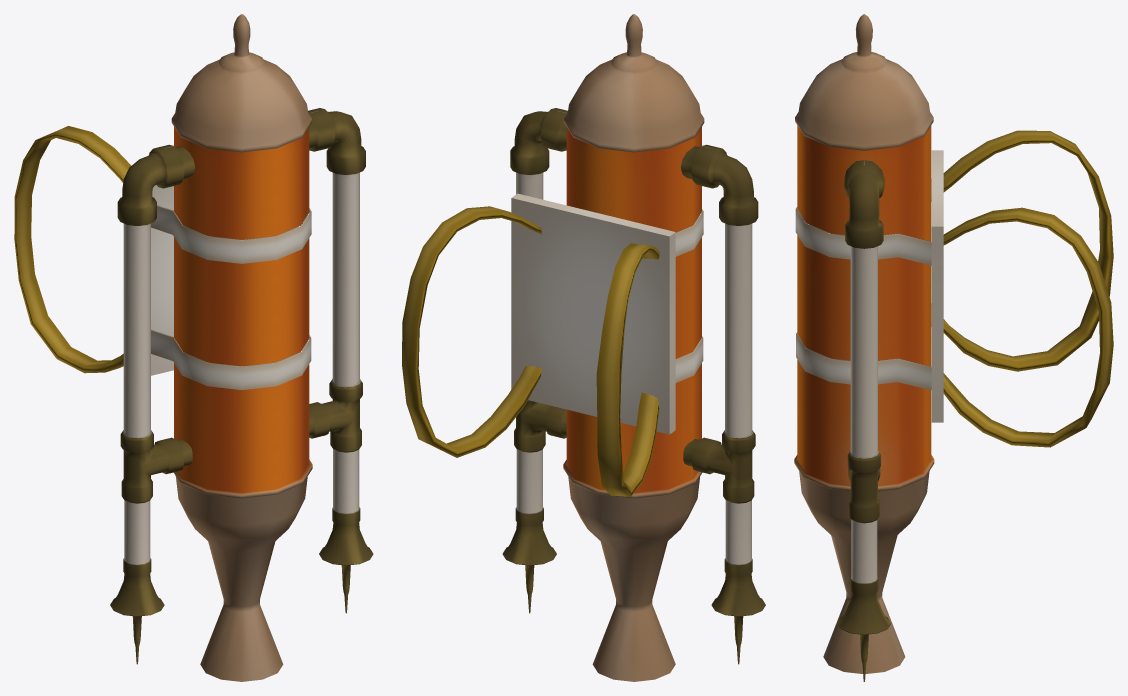
Rendered from Jet_Pack.fbx.
3 views of the same model, side by side, from view 1: azimuth 30°, elevation 25°; view 2: azimuth 150°, elevation 25°; view 3: azimuth 270°, elevation 25° (orthographic).
Visible parts, largest first — view 1: polySurface14; view 2: polySurface14; view 3: polySurface14.
Boxes of the visible parts, bbox=[...] form: polySurface14: bbox=[14, 14, 373, 681]; polySurface14: bbox=[402, 14, 765, 681]; polySurface14: bbox=[794, 14, 1113, 681].
Bounding box in the file's own units: 4.57 × 11.08 × 4.99.
Materials: 1 (1 with a texture image).
